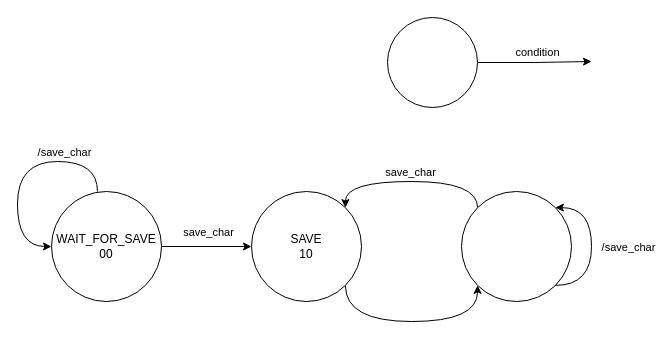
Some shapes in this 672 by 339 pixel diagram are drawn without their labels. Here are the shapes that lost their labels. From the top down, the centre of each, then its label:
pixel 432 62: état ------------------ save, char_rdy
pixel 516 246: SAVE_DONE 01
